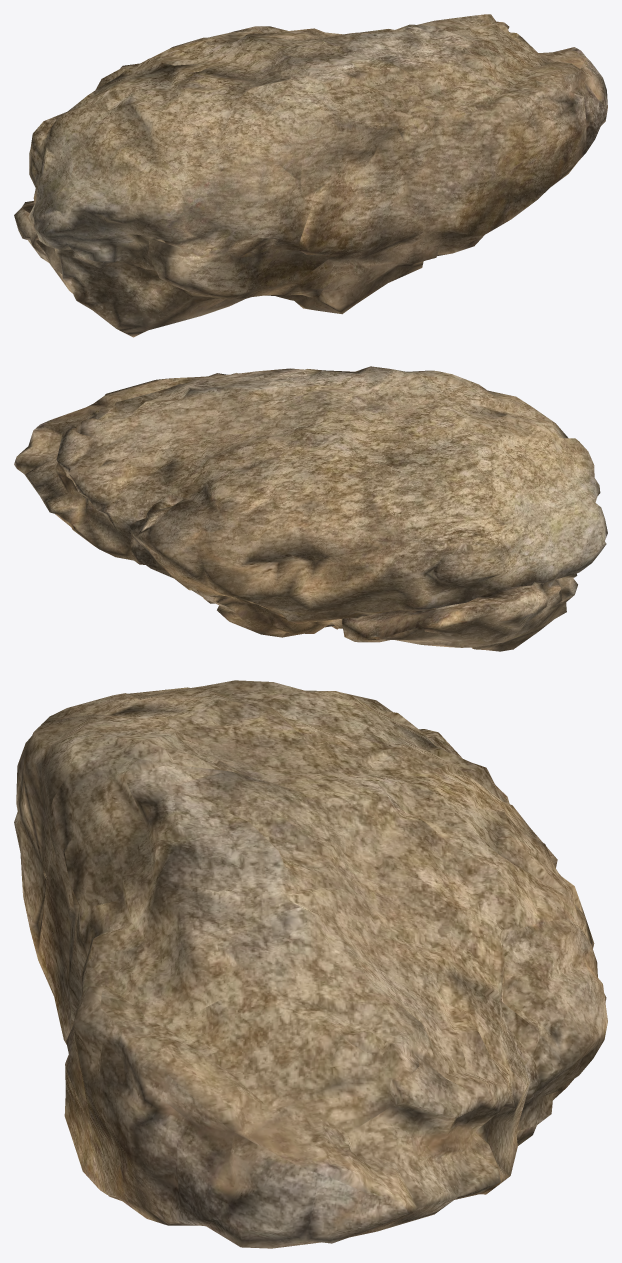
Rendered from rock_sandstone_flat.glb.
3 renders of one model, top to bottom at view 1: azimuth 30°, elevation 25°; view 2: azimuth 150°, elevation 25°; view 3: azimuth 270°, elevation 25°, orthographic. The views are drawn at different scales.
Parts seen in each view (by area): view 1: namaqualand_boulder_05; view 2: namaqualand_boulder_05; view 3: namaqualand_boulder_05.
Part boxes in pixels (x1,y1,x2,y2): namaqualand_boulder_05: [14, 14, 607, 337]; namaqualand_boulder_05: [14, 366, 607, 651]; namaqualand_boulder_05: [14, 680, 607, 1248].
Size of the model in its own units: 1.36 by 0.5384 by 0.7481.
1 material, 1 textured.
